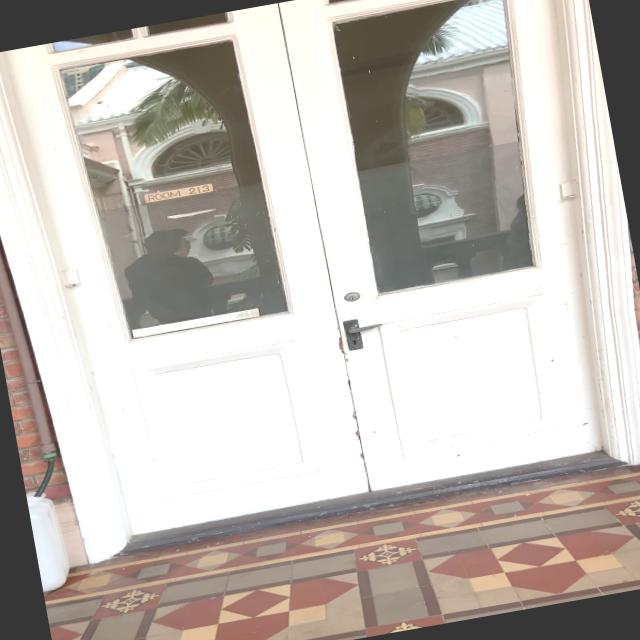room213Window: (140, 178, 218, 208)
